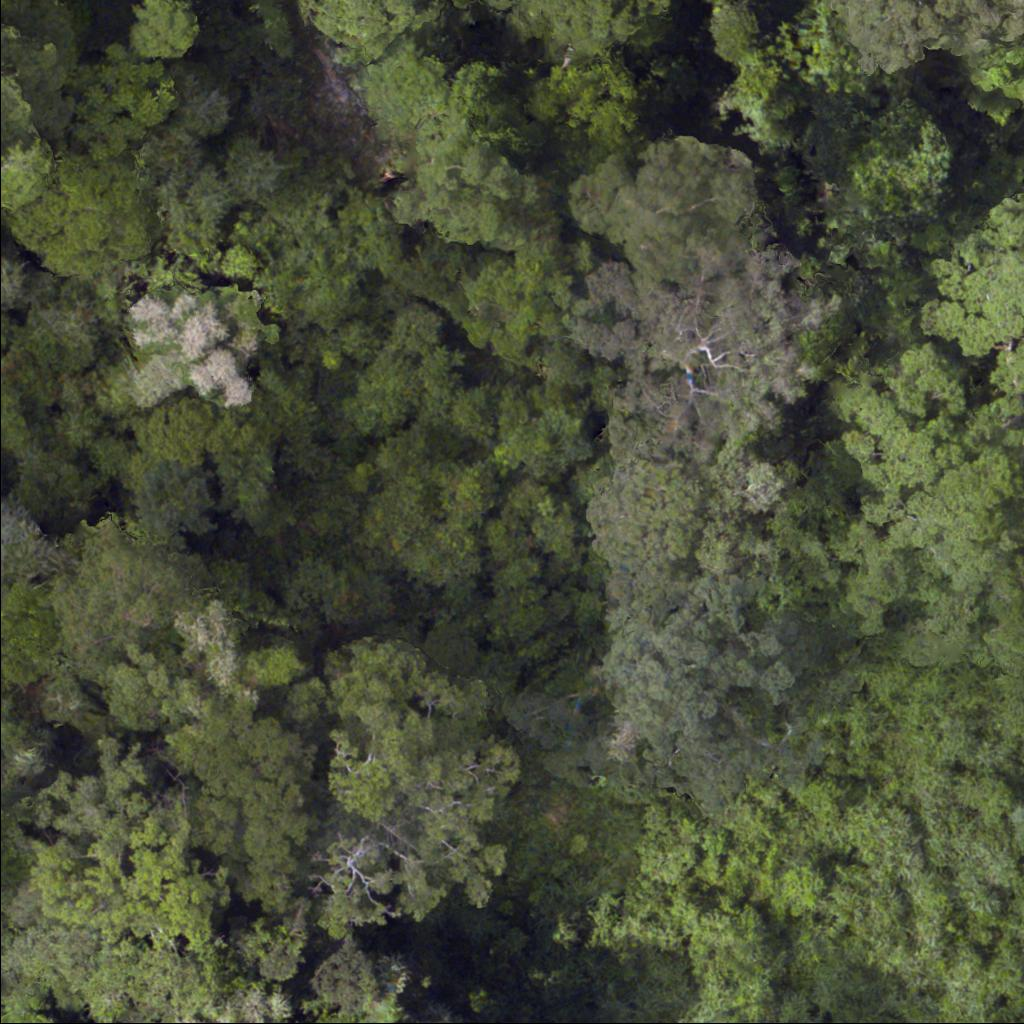crown: (822, 341, 1023, 672), (304, 637, 523, 934), (599, 573, 825, 825), (588, 443, 790, 612), (911, 180, 1023, 425), (815, 0, 1023, 86)
